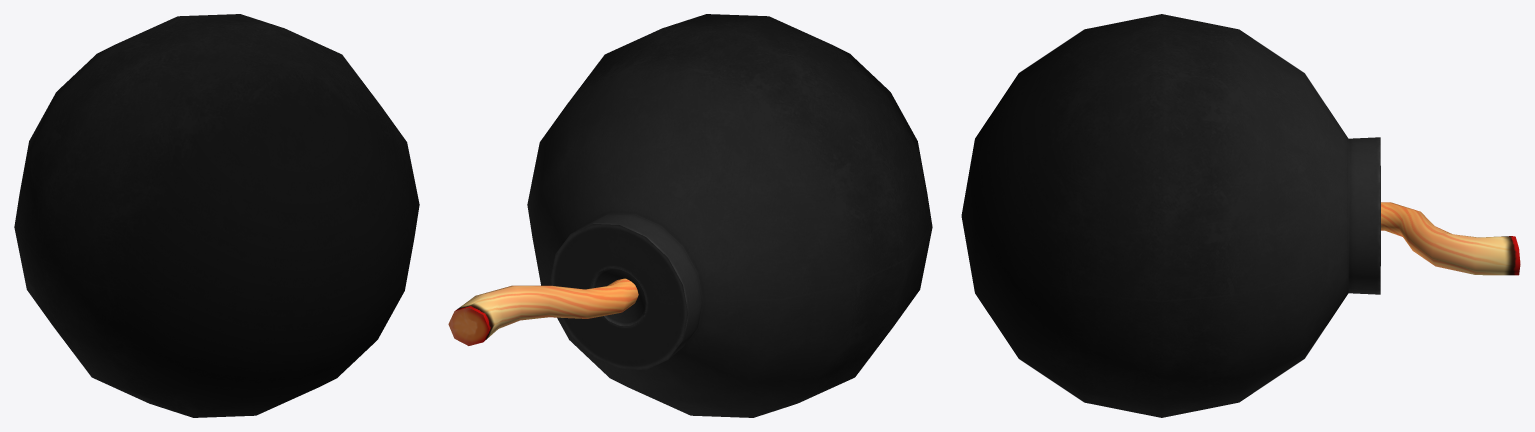
The model's file is Bomb.FBX.
3 views of the same model, side by side, from view 1: azimuth 30°, elevation 25°; view 2: azimuth 150°, elevation 25°; view 3: azimuth 270°, elevation 25° (orthographic).
Visible parts, largest first — view 1: Bomb; view 2: Bomb; view 3: Bomb.
Part boxes in pixels (<box>): Bomb: <box>14,14,419,417</box>; Bomb: <box>448,14,932,417</box>; Bomb: <box>961,14,1520,417</box>.
Bounding box in the file's own units: 32 × 32 × 44.24.
Materials: 1 (1 with a texture image).
